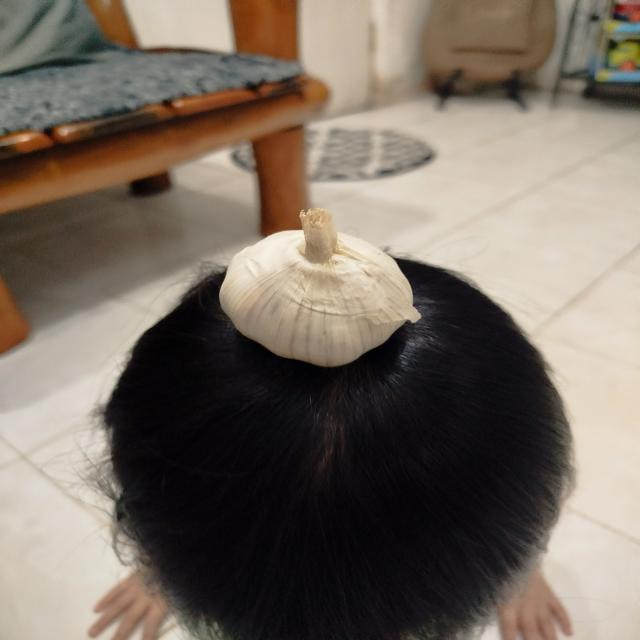garlic: (218, 207, 422, 367)
